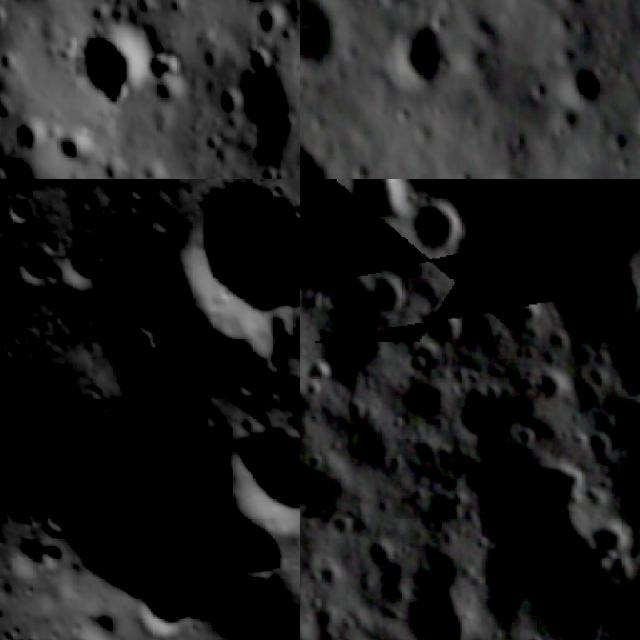crater: (154, 179, 300, 379), (204, 377, 300, 564), (62, 14, 165, 109), (396, 549, 493, 640), (107, 264, 193, 353), (3, 518, 80, 596), (403, 192, 474, 262), (238, 71, 300, 151), (56, 232, 122, 300), (395, 12, 449, 92), (59, 588, 139, 640), (7, 237, 69, 300), (337, 179, 416, 228), (577, 509, 640, 566), (412, 302, 476, 358), (513, 222, 568, 282), (300, 0, 346, 71), (0, 182, 53, 236), (4, 115, 57, 163), (360, 271, 411, 320), (421, 486, 468, 537), (241, 4, 293, 44), (569, 60, 613, 106), (300, 355, 343, 401), (48, 134, 96, 175), (622, 289, 640, 350), (526, 72, 554, 105), (355, 159, 381, 179), (454, 168, 485, 179)
